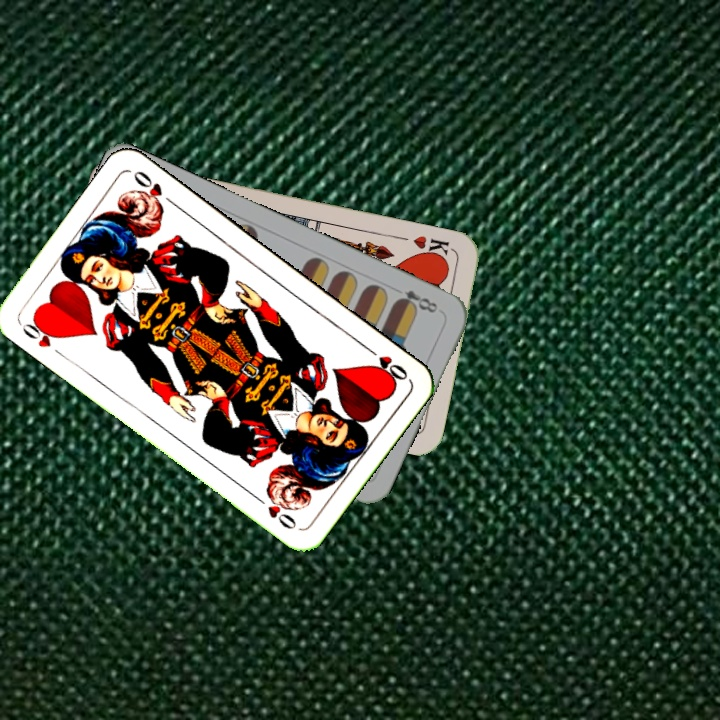E8: (389, 283, 441, 316)
HK: (409, 231, 452, 263)
HO: (360, 341, 410, 384), (16, 314, 63, 350)
